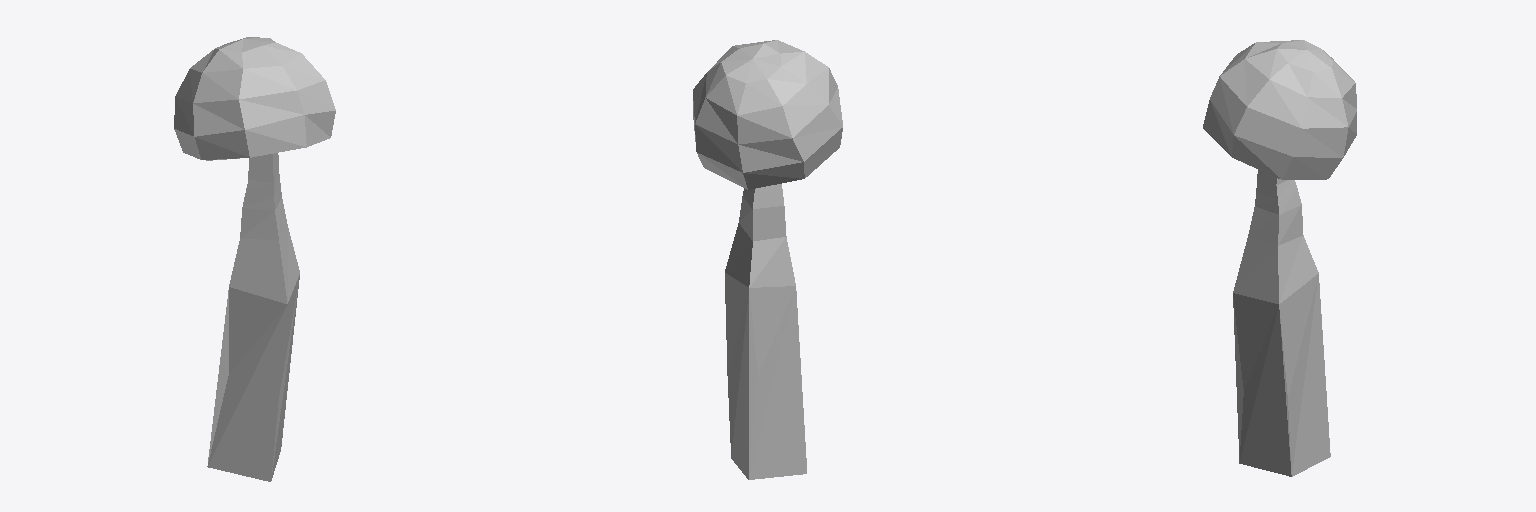
File: smallmushroom0.obj
3 views of the same model, side by side, from view 1: azimuth 30°, elevation 25°; view 2: azimuth 150°, elevation 25°; view 3: azimuth 270°, elevation 25° (orthographic).
Visible parts, largest first — view 1: Cube_Cube.001, Sphere_Sphere.001; view 2: Cube_Cube.001, Sphere_Sphere.001; view 3: Cube_Cube.001, Sphere_Sphere.001.
Part boxes in pixels (x1,y1,x2,y2): Cube_Cube.001: (207,153,299,481); Sphere_Sphere.001: (174,37,335,160); Cube_Cube.001: (725,184,806,479); Sphere_Sphere.001: (693,40,842,189); Cube_Cube.001: (1233,170,1330,476); Sphere_Sphere.001: (1203,40,1356,179).
Bounding box in the file's own units: 2.21 × 6.47 × 2.16.